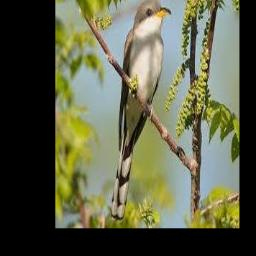Cuckoo: (109, 1, 172, 222)
